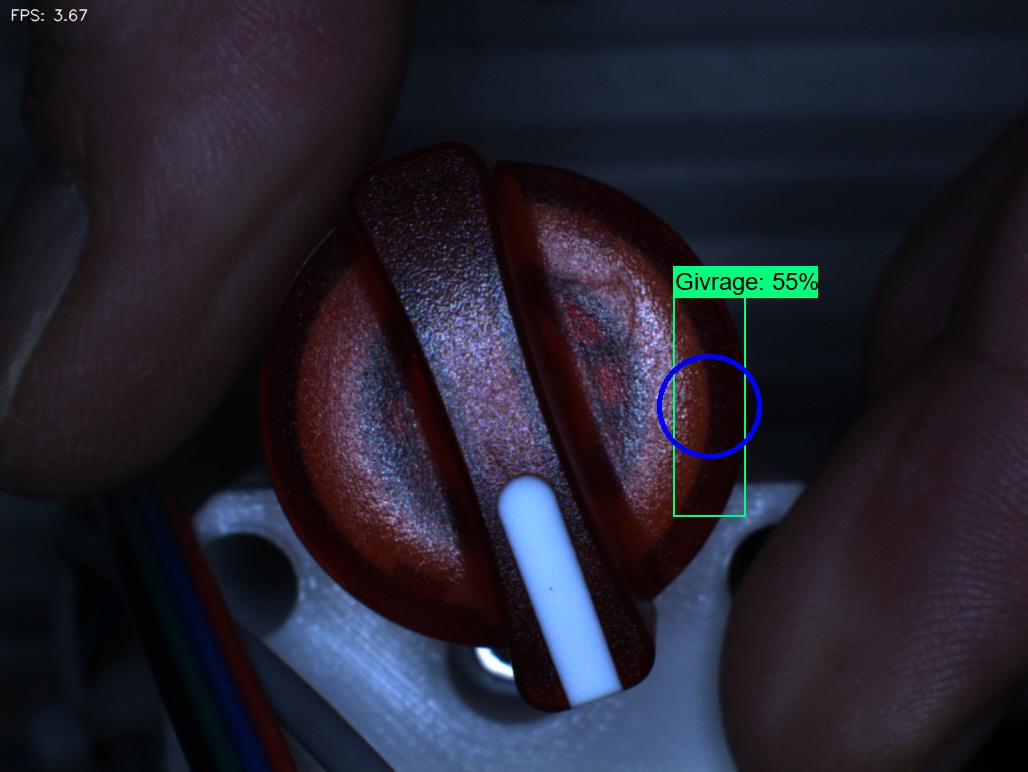PointNoir: (520, 560, 586, 625)
